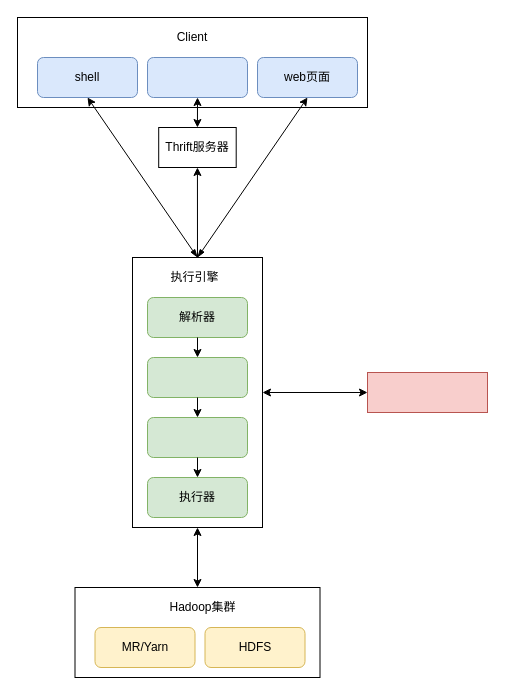
This 505x695 diagram has some shape labels left out. The shapes that lost their labels are listed below. From the top down, each one's centre as x and y in pixels, then its label:
pixel 197 77: jdbc/odbc
pixel 197 377: 编译器
pixel 427 392: HiveMetaStore
pixel 197 437: 优化器
